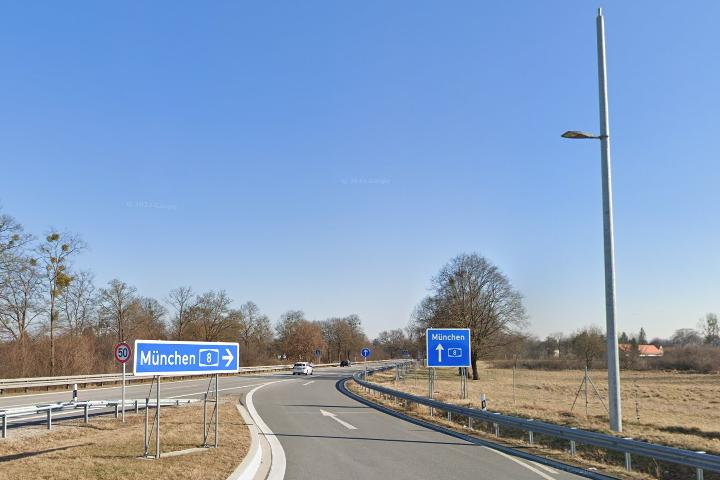traffic_sign: (114, 343, 131, 362), (361, 348, 370, 357)
vehicle: (291, 360, 314, 376)
